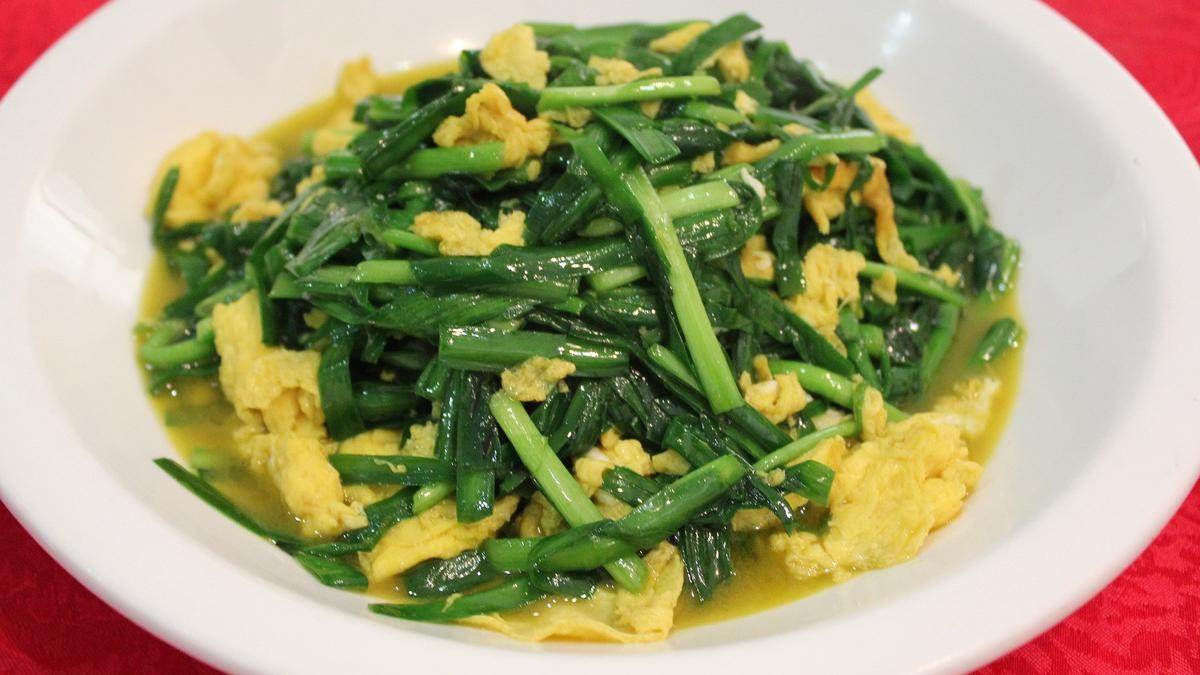buah_sayur_lainnya: (220, 97, 938, 537)
